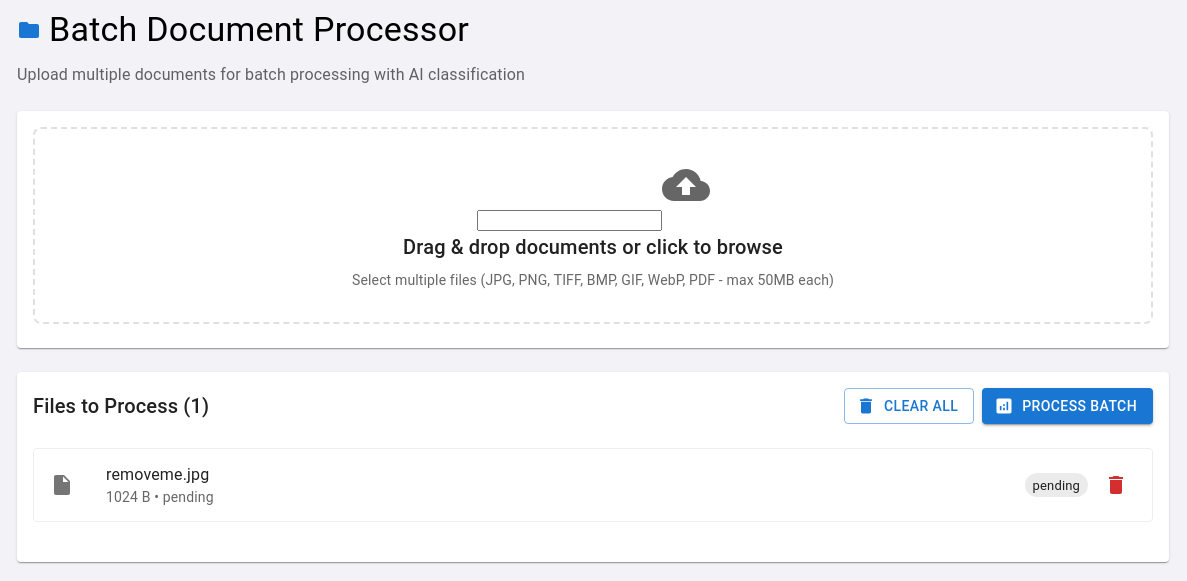
it: BatchProcessor › removing a single file › removes a file when its delete button is clicked
The image size is (1187, 581).
expect the text "removeme.jpg" is shown: met, box [106, 465, 209, 484]
Click the button named "remove removeme.jpg from batch": (1116, 485) [1096, 465, 1136, 505]
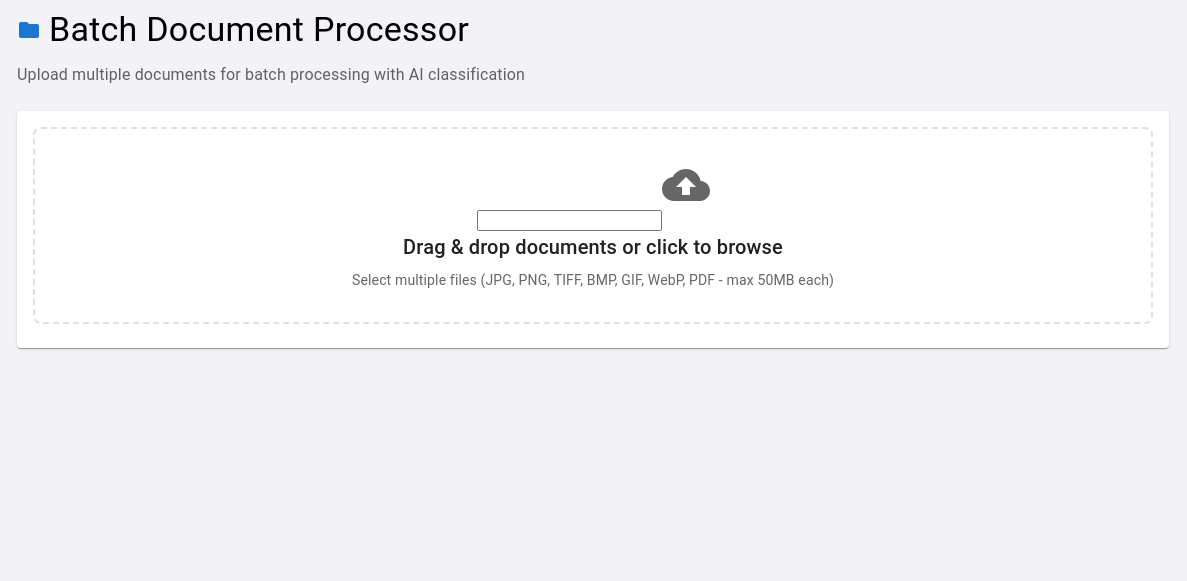
expect the text "removeme.jpg" is gone: met
